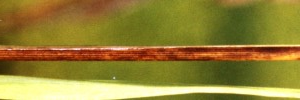RiceSheathBrownRot: (1, 40, 300, 64)
